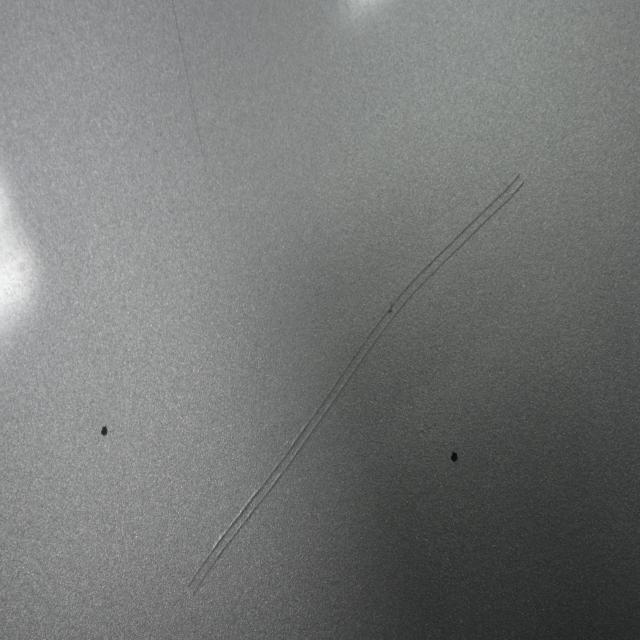dirt: (100, 424, 110, 438), (449, 449, 459, 462)
scratch: (181, 164, 533, 603)
